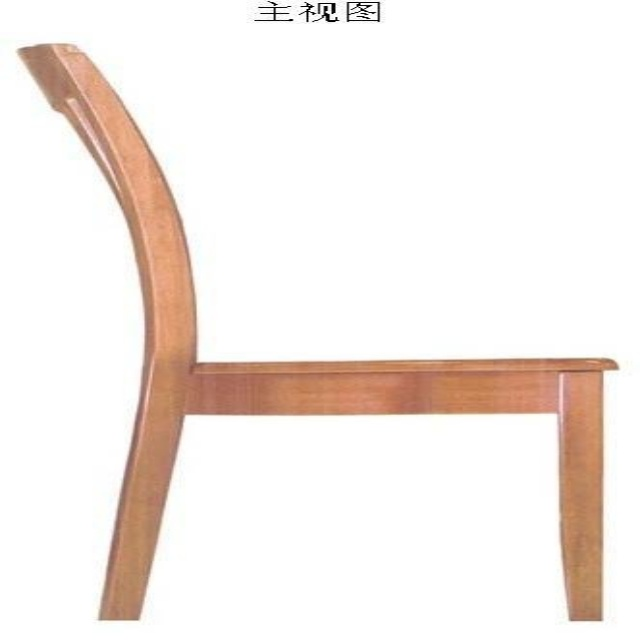obstacle: (19, 44, 615, 620)
